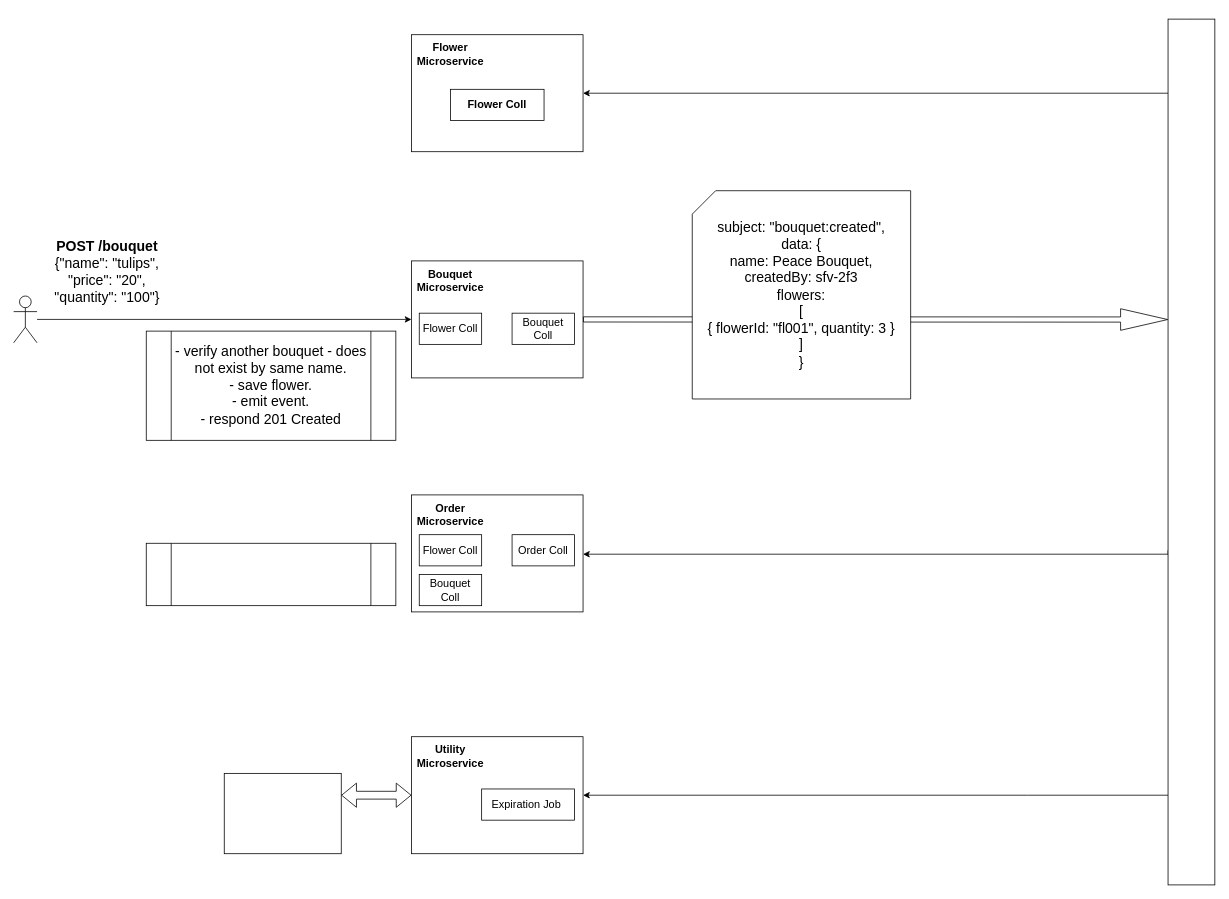
The diagram is 1229 pixels wide and 899 high, and some of its shapes have lost their labels. Each missing label, with the centre of its shape:
Actor: point (25, 319)
E V E N T B U S: point (1191, 451)
Redis in-mem: point (282, 813)
save the created bouquet with the same Id: point (270, 574)
